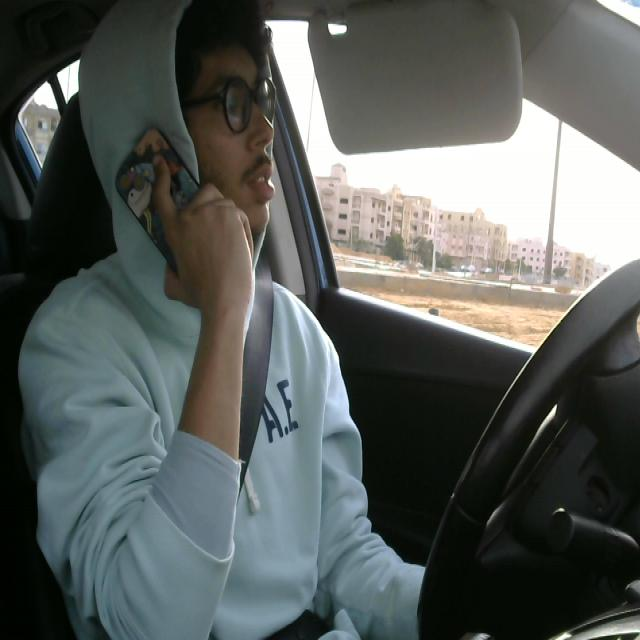mobile use: (112, 120, 235, 285)
